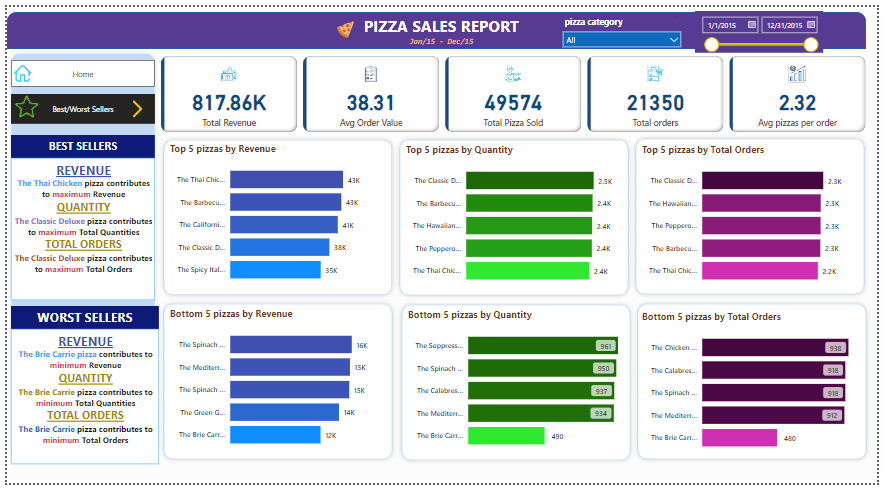

Layout of this report page (visuals, bound fields, positions):
{"tool":"powerbi","page":{"name":"Best/Worst Sellers","canvas":[1500,820],"ordinal":1},"visuals":[{"type":"cardVisual","fields":{"Data":["pizza_sales.Total Revenue","pizza_sales.Avg Order Value","pizza_sales.Total Pizza Sold","pizza_sales.Total orders","pizza_sales.Avg pizzas per order"]},"box":[260.3,79.3,1225.9,141.4],"z":0},{"type":"shape","box":[0,8.6,1481,63.8],"z":1000},{"type":"textbox","box":[604.5,9,288.1,70.1],"z":2000},{"type":"textbox","box":[679.1,44.8,138.8,34.3],"z":3000},{"type":"image","box":[546.3,19.4,74.6,40.3],"z":4000},{"type":"shape","box":[262.1,220.7,410,284],"z":5000},{"type":"shape","box":[0,72.4,262.1,715.5],"z":6000},{"type":"textbox","box":[6.9,220.7,248.3,39.7],"z":7000},{"type":"textbox","box":[6.9,260.3,248.3,244.8],"z":8000},{"type":"textbox","box":[6.9,515.5,255.2,39.7],"z":9000},{"type":"textbox","box":[6.9,555.2,255.2,232.8],"z":10000},{"type":"slicer","fields":{"Values":["pizza_sales.pizza_category"]},"box":[948.3,10.3,224.1,60.3],"z":11000},{"type":"slicer","fields":{"Values":["pizza_sales.order_date"]},"box":[1186.2,6.9,220.7,72.4],"z":12000},{"type":"shape","box":[262.1,503.4,410.3,284.5],"z":13000},{"type":"shape","box":[669,220.7,410.3,284.5],"z":14000},{"type":"shape","box":[1075.9,219,410.3,284.5],"z":15000},{"type":"shape","box":[672.4,505.2,410.3,284.5],"z":16000},{"type":"shape","box":[1079.3,503.4,410.3,284.5],"z":17000},{"type":"barChart","title":"Top 5 pizzas by Revenue","fields":{"Category":["pizza_sales.pizza_name"],"Y":["pizza_sales.Total Revenue"]},"box":[275.9,232.8,382.8,256.9],"z":18000},{"type":"barChart","title":"Bottom 5 pizzas by Revenue","fields":{"Category":["pizza_sales.pizza_name"],"Y":["pizza_sales.Total Revenue"]},"box":[275.9,517.2,382.8,256.9],"z":19000},{"type":"barChart","title":"Top 5 pizzas by Quantity","fields":{"Category":["pizza_sales.pizza_name"],"Y":["pizza_sales.Total Pizza Sold"]},"box":[682.8,234.5,382.8,256.9],"z":20000},{"type":"barChart","title":"Bottom 5 pizzas by Quantity","fields":{"Category":["pizza_sales.pizza_name"],"Y":["pizza_sales.Total Pizza Sold"]},"box":[686.2,519,382.8,256.9],"z":21000},{"type":"barChart","title":"Top 5 pizzas by Total Orders","fields":{"Category":["pizza_sales.pizza_name"],"Y":["pizza_sales.Total orders"]},"box":[1089.7,234.5,382.8,256.9],"z":22000},{"type":"barChart","title":"Bottom 5 pizzas by Total Orders","fields":{"Category":["pizza_sales.pizza_name"],"Y":["pizza_sales.Total orders"]},"box":[1089.7,522.4,382.8,256.9],"z":22001},{"type":"pageNavigator","box":[6.9,91.4,248.3,46.6],"z":22002},{"type":"pageNavigator","box":[6.9,150,248.3,51.7],"z":22003},{"type":"image","box":[193.1,155.2,62.1,41.4],"z":22004},{"type":"image","box":[6.9,91.4,39.7,46.6],"z":22005},{"type":"image","box":[0,146.6,69,50],"z":22006}]}

Visuals, with their boxes in screenshot pixels (x1, y1, x2, y2), scaled from the page's 1500x820 canvas onto the 887x497 screenshot:
cardVisual - pizza_sales.Total Revenue x pizza_sales.Avg Order Value: 154:48:879:134
shape: 0:5:876:44
textbox: 357:5:528:48
textbox: 402:27:484:48
image: 323:12:367:36
shape: 155:134:397:306
shape: 0:44:155:478
textbox: 4:134:151:158
textbox: 4:158:151:306
textbox: 4:312:155:337
textbox: 4:337:155:478
slicer - pizza_sales.pizza_category: 561:6:693:43
slicer - pizza_sales.order_date: 701:4:832:48
shape: 155:305:398:478
shape: 396:134:638:306
shape: 636:133:879:305
shape: 398:306:640:479
shape: 638:305:881:478
"Top 5 pizzas by Revenue" barChart: 163:141:390:297
"Bottom 5 pizzas by Revenue" barChart: 163:313:390:469
"Top 5 pizzas by Quantity" barChart: 404:142:630:298
"Bottom 5 pizzas by Quantity" barChart: 406:315:632:470
"Top 5 pizzas by Total Orders" barChart: 644:142:871:298
"Bottom 5 pizzas by Total Orders" barChart: 644:317:871:472
pageNavigator: 4:55:151:84
pageNavigator: 4:91:151:122
image: 114:94:151:119
image: 4:55:28:84
image: 0:89:41:119
